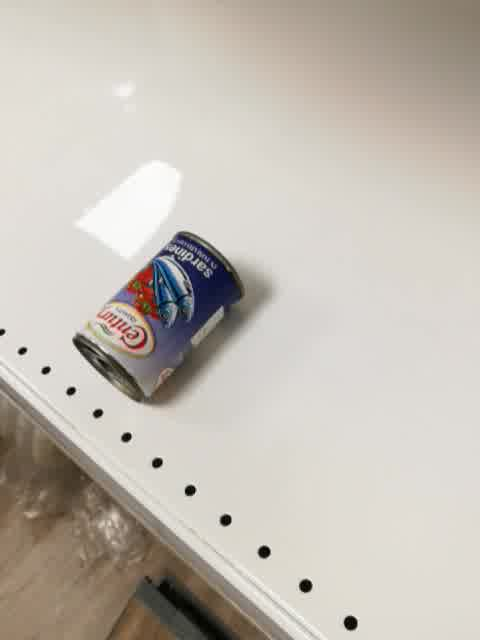sardine: (71, 231, 244, 406)
